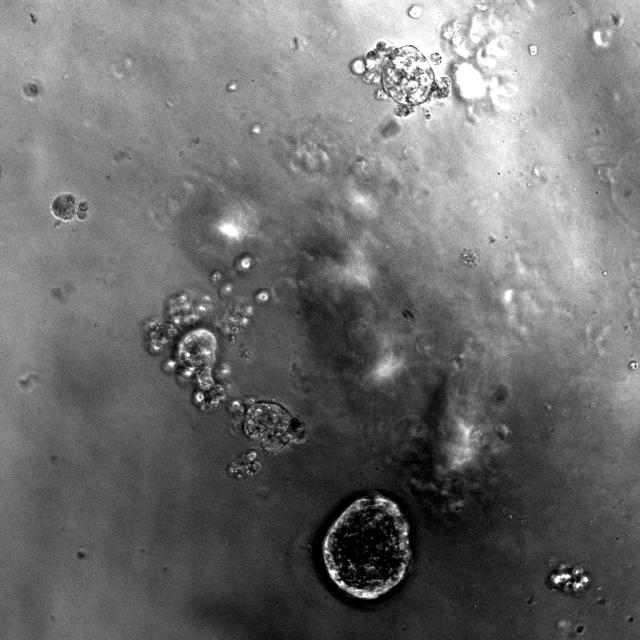organoid: (143, 292, 306, 452), (401, 383, 508, 510), (322, 493, 411, 600), (441, 4, 516, 117), (351, 41, 450, 120), (548, 565, 589, 594), (51, 194, 88, 220), (228, 449, 261, 478), (209, 270, 233, 296), (234, 252, 256, 274), (22, 79, 42, 100), (255, 287, 272, 304), (408, 4, 422, 19), (529, 45, 538, 56)
